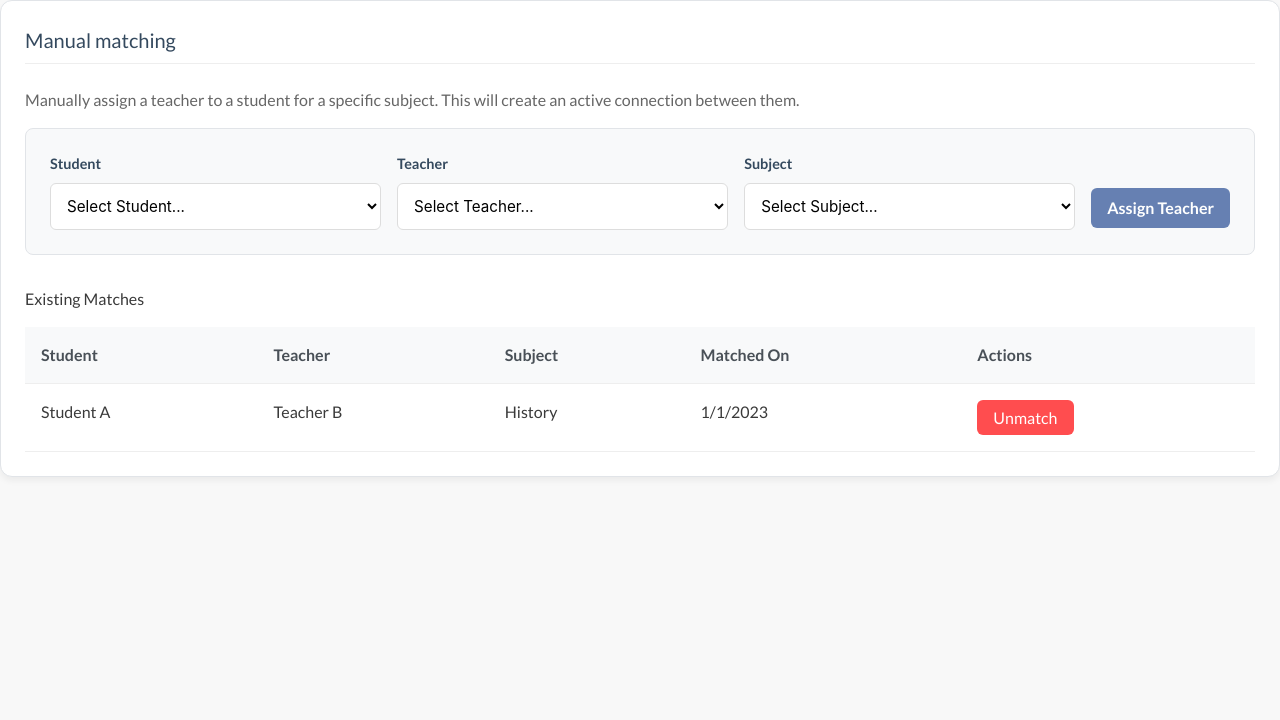
Scenario: ManualMatchingTab › displays API error message on failure
The width and height of the screenshot is (1280, 720).
Select "StudentUser ()" in the dropdown labelled "Student" at (216,206), box [50,183,381,230]
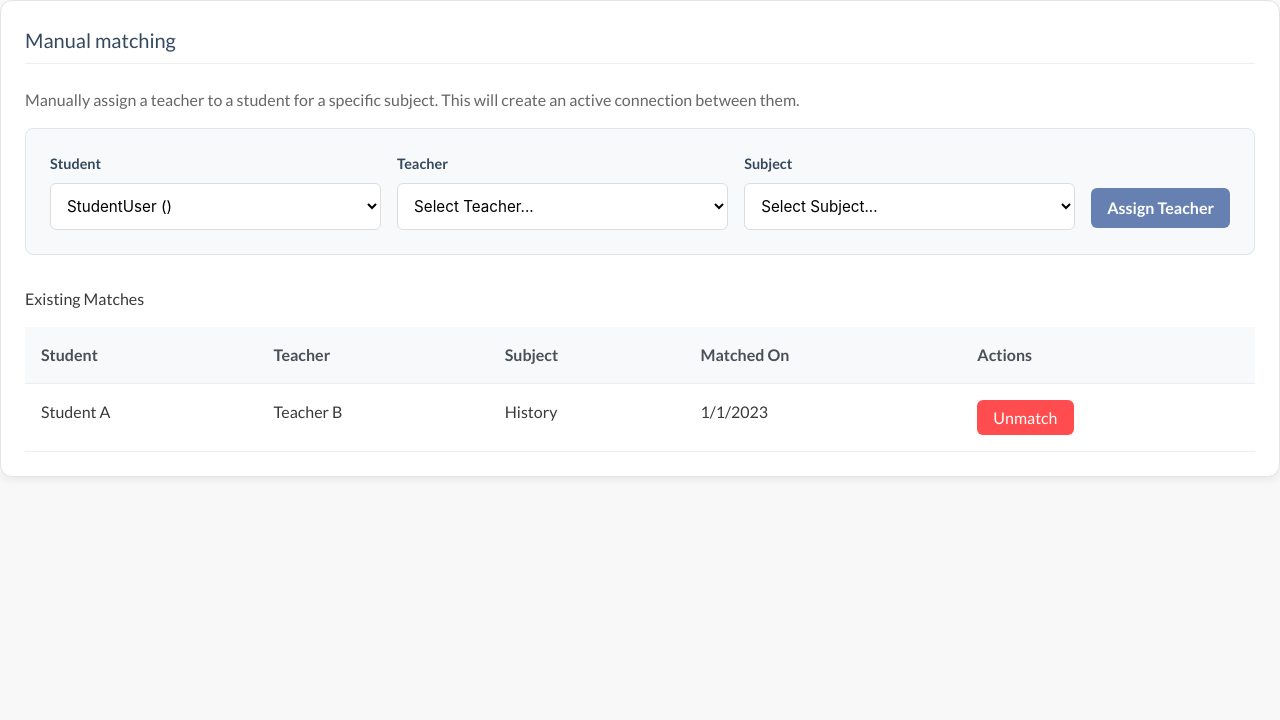
Select "TeacherUser ()" in the dropdown labelled "Teacher" at (563,206), box [397,183,728,230]
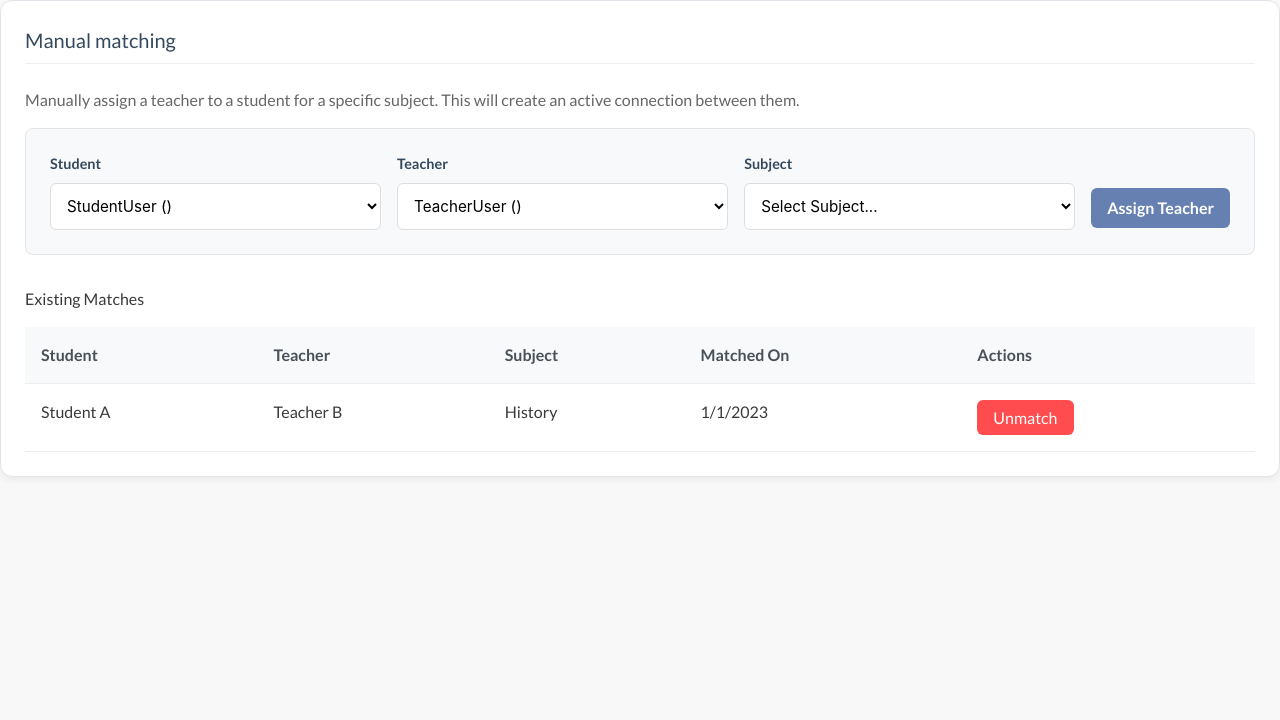
Select "Math" in the dropdown labelled "Subject" at (910,206), box [744,183,1075,230]
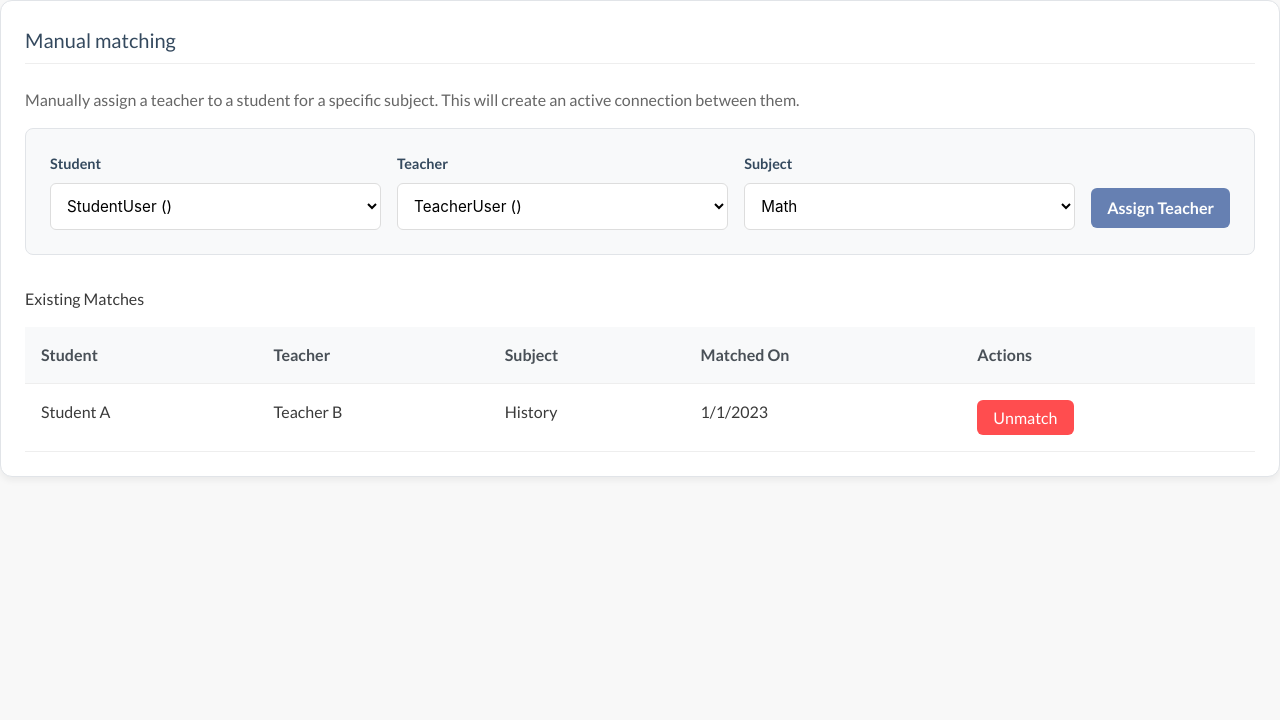
Click the button "Assign Teacher".
click(1161, 208)  # box [1091,188,1230,228]
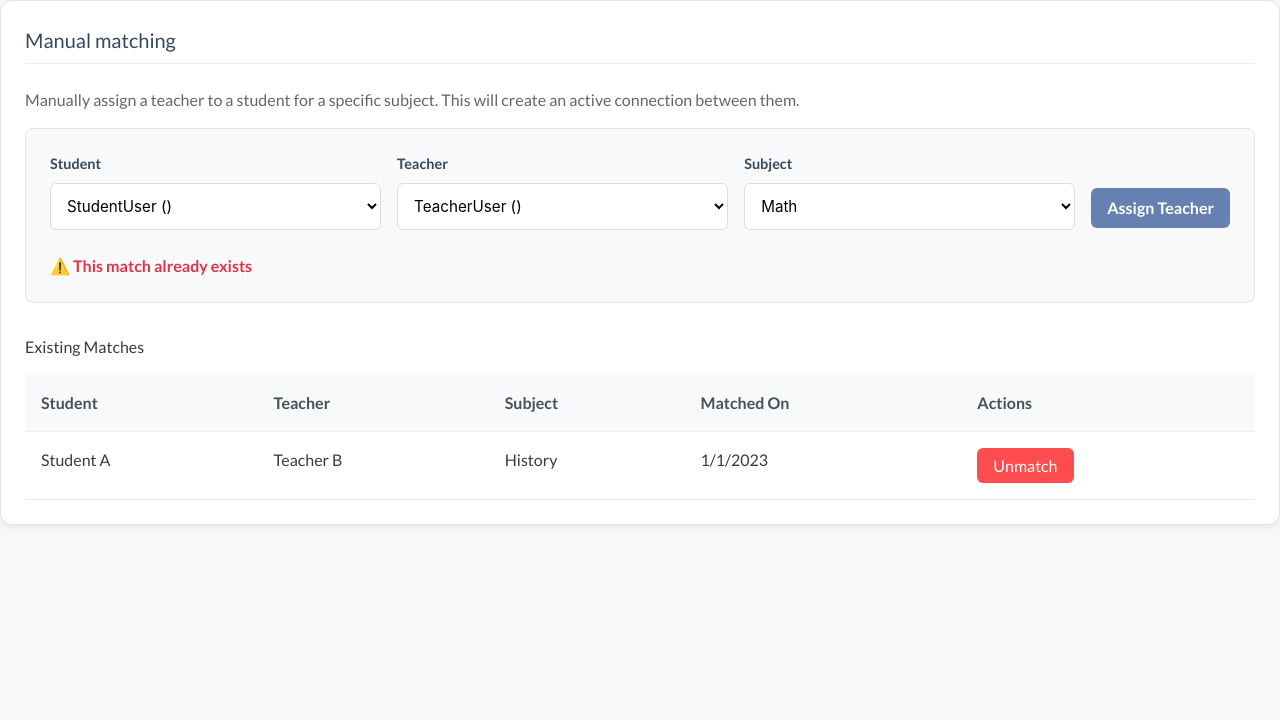
Check: the text "⚠️ This match already exists" is shown, box [50,256,252,275]
